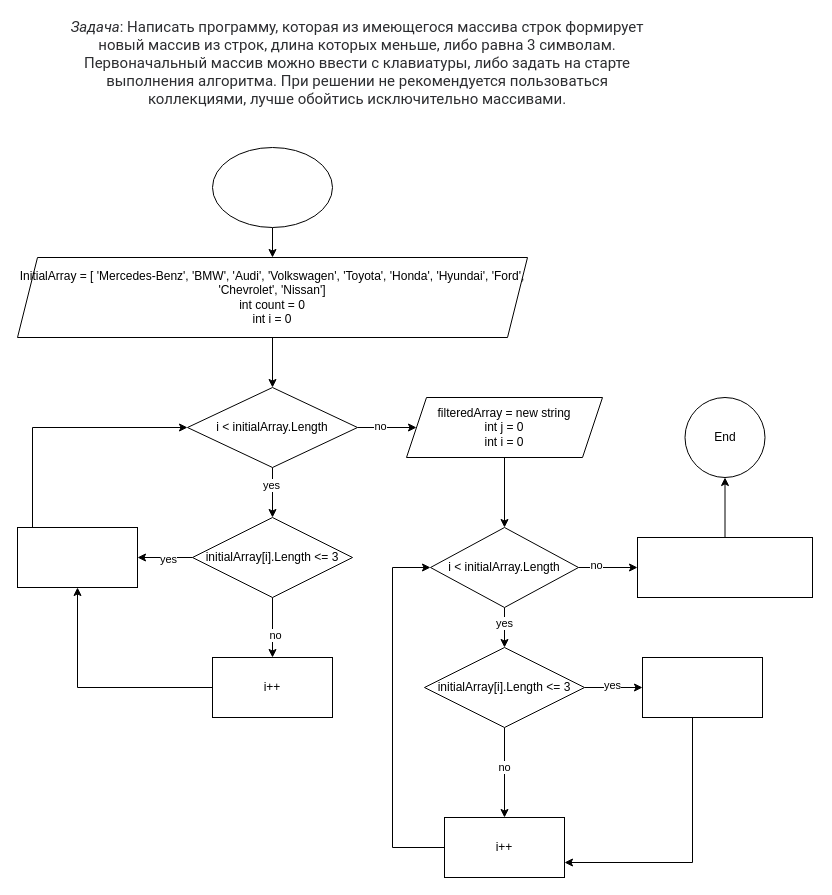
Image size: 832x895. Some labels were removed from this diagram. The box of each missing label's shape, as (x1, y1, x2, y2) in pixels:
Console.WriteLine(filteredArray[i]): (636, 536, 812, 598)
count++: (16, 526, 138, 588)
filteredArray[j] = initialArray j++: (642, 656, 762, 718)
Start: (212, 146, 332, 228)
